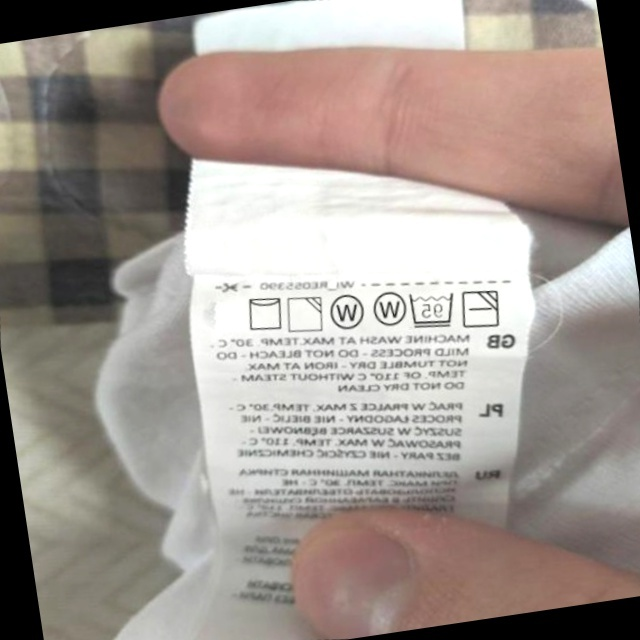95C: (403, 284, 461, 334)
dry_flat_in_shade: (456, 282, 506, 334)
line_dry: (240, 289, 289, 337)
shade_dry: (281, 290, 329, 338)
wet_clean: (324, 288, 370, 337), (366, 283, 411, 332)
